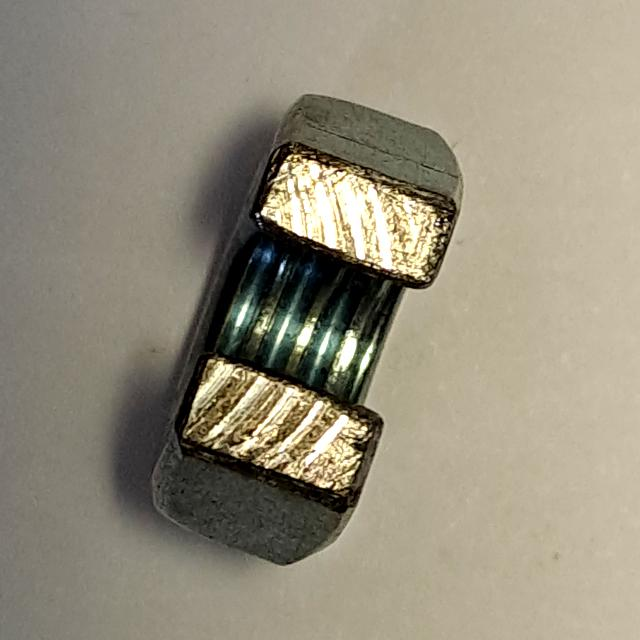Side-Fracture: (128, 81, 472, 579)
